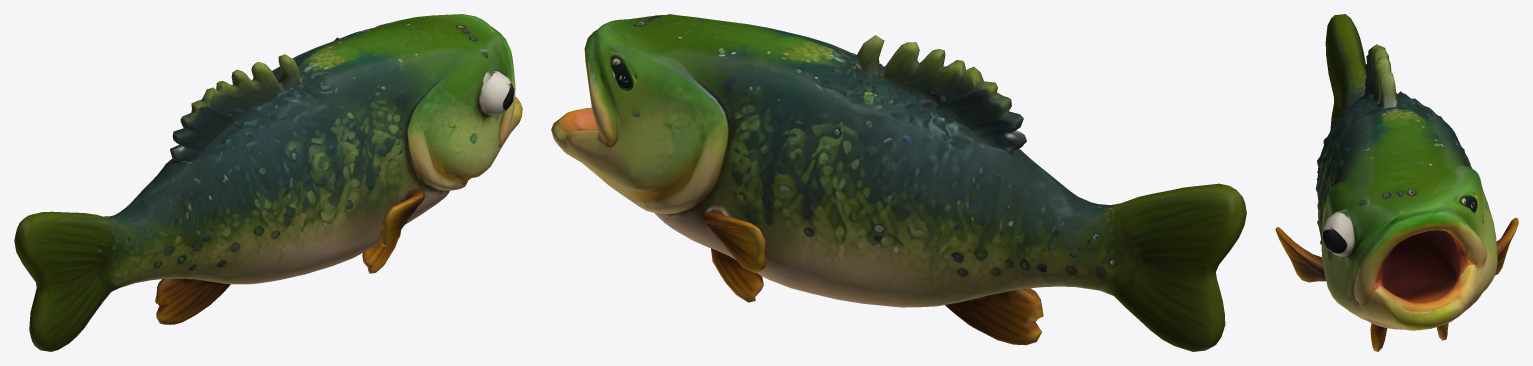
The model's file is bass.glb.
3 views of the same model, side by side, from view 1: azimuth 30°, elevation 25°; view 2: azimuth 150°, elevation 25°; view 3: azimuth 270°, elevation 25° (orthographic). The views are drawn at different scales.
Parts seen in each view (by area): view 1: tripo_node_ff389f9f-a6bb-45ed-b3a9-1e6d78d46012; view 2: tripo_node_ff389f9f-a6bb-45ed-b3a9-1e6d78d46012; view 3: tripo_node_ff389f9f-a6bb-45ed-b3a9-1e6d78d46012.
Boxes of the visible parts, x1,y1,x2,y2 form: tripo_node_ff389f9f-a6bb-45ed-b3a9-1e6d78d46012: [14, 14, 522, 351]; tripo_node_ff389f9f-a6bb-45ed-b3a9-1e6d78d46012: [551, 14, 1246, 351]; tripo_node_ff389f9f-a6bb-45ed-b3a9-1e6d78d46012: [1275, 14, 1518, 351].
Size of the model in its own units: 1 by 0.4187 by 0.3834.
Materials: 1 (1 with a texture image).
